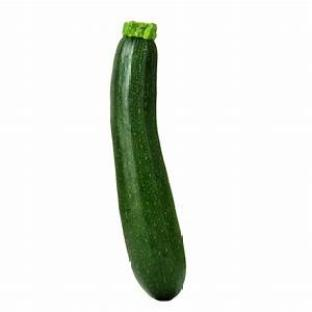Zucchini: (111, 22, 185, 300)
